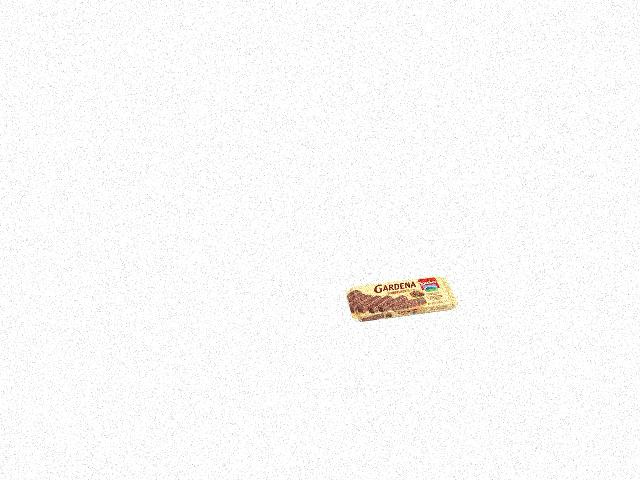chocolate: (339, 274, 462, 317)
